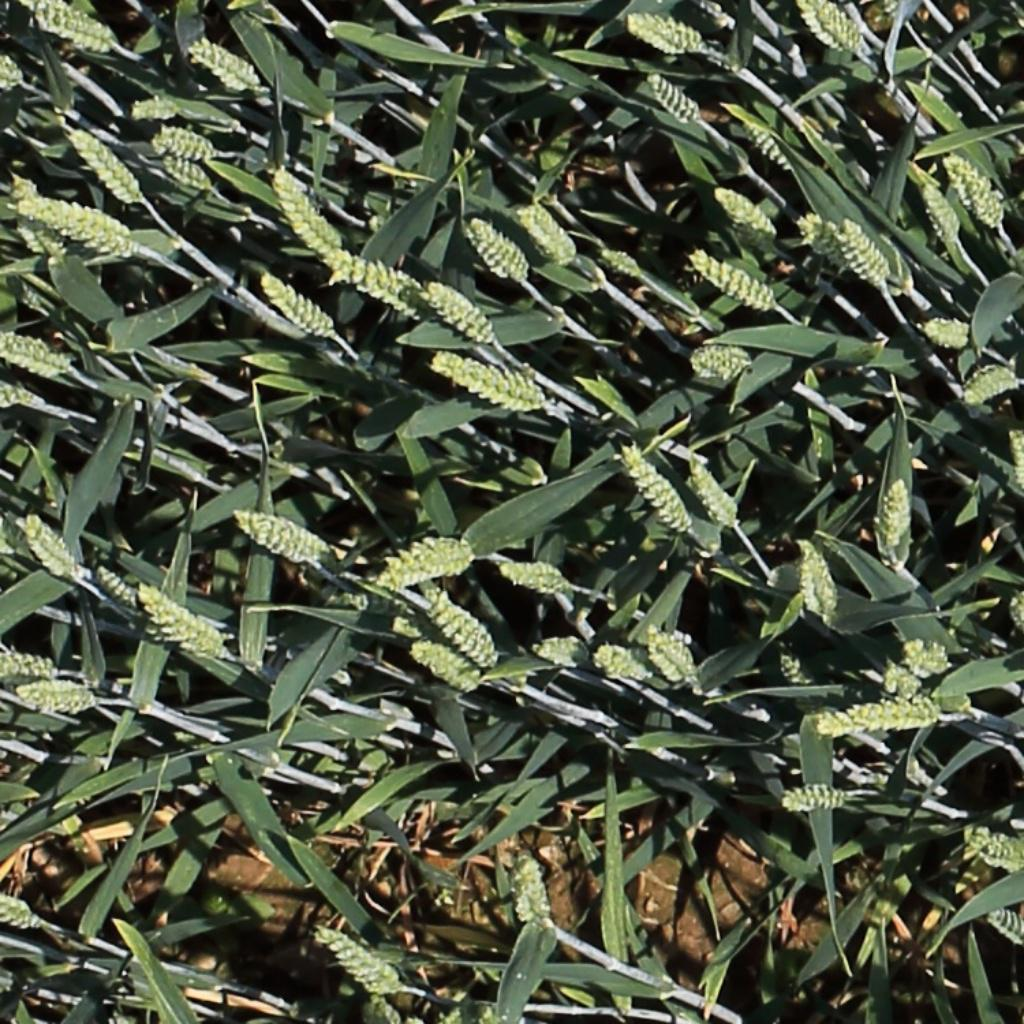0-0: (312, 241, 446, 320), (618, 441, 696, 537), (268, 161, 346, 255), (373, 532, 479, 598), (820, 687, 954, 738), (2, 164, 76, 256), (66, 121, 144, 207), (432, 352, 547, 409), (423, 587, 499, 670), (136, 585, 225, 655), (315, 925, 401, 996), (689, 247, 778, 308), (782, 0, 877, 56), (942, 147, 1006, 230), (260, 268, 335, 338), (35, 202, 148, 248), (234, 509, 329, 561), (465, 210, 532, 282), (686, 454, 745, 535), (840, 218, 901, 296), (424, 278, 496, 344), (19, 510, 80, 581), (517, 196, 580, 264), (28, 0, 117, 47), (800, 208, 862, 275), (738, 107, 797, 173), (188, 40, 262, 90), (714, 182, 779, 237), (798, 536, 839, 621), (18, 673, 107, 712), (644, 66, 704, 122), (920, 174, 966, 247), (412, 643, 480, 692), (644, 626, 700, 684), (514, 851, 554, 932), (0, 329, 69, 374), (780, 777, 867, 811), (629, 13, 701, 53), (528, 638, 605, 672), (91, 563, 143, 613), (883, 472, 913, 558), (965, 831, 1022, 869), (158, 150, 212, 189), (690, 344, 750, 378), (152, 126, 217, 157), (876, 664, 933, 699), (499, 563, 570, 591), (0, 645, 61, 677), (596, 648, 652, 681), (962, 370, 1019, 402), (124, 96, 183, 126), (906, 636, 953, 672), (0, 882, 36, 928), (600, 244, 644, 277), (985, 910, 1024, 946), (922, 320, 973, 341), (0, 47, 23, 91), (0, 494, 15, 551), (0, 383, 32, 404)
